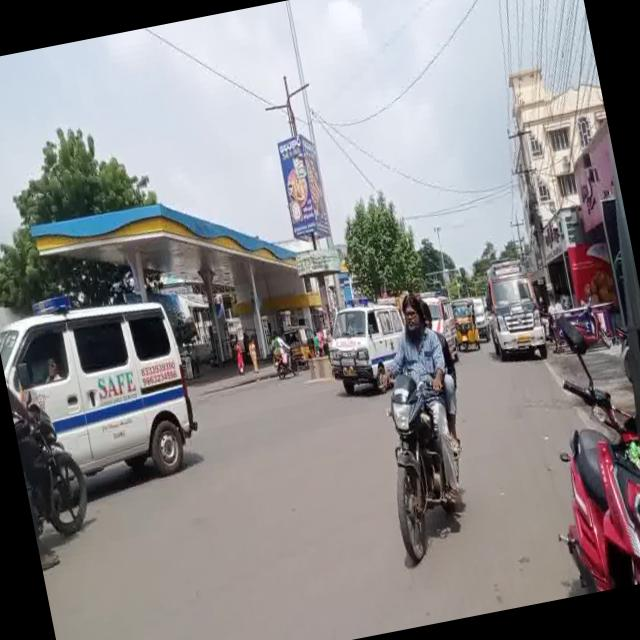ambulance: (0, 279, 197, 494), (477, 249, 558, 361), (319, 282, 408, 375)
